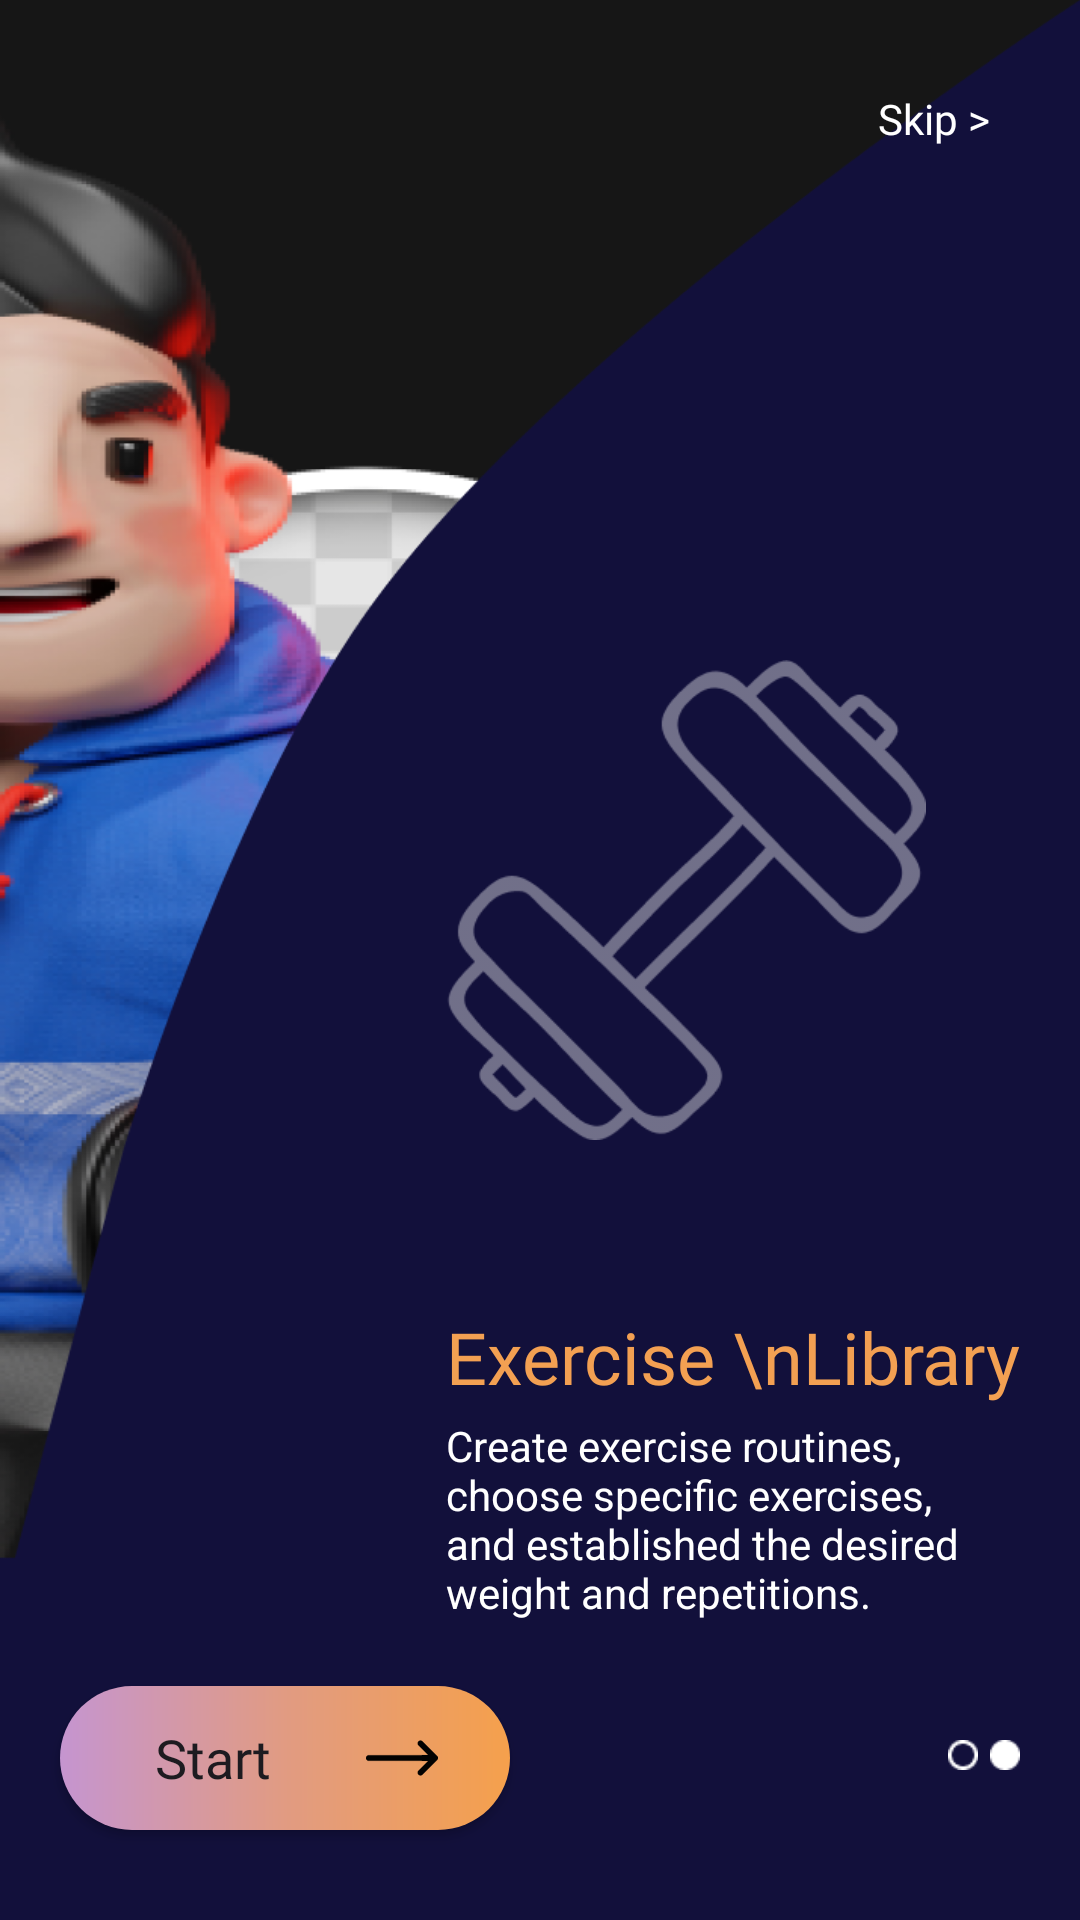

Icon click points for this 1080w x 1920h phone screenshot, format (x,y):
dot: (1005,1755)
dot unfill: (963,1755)
